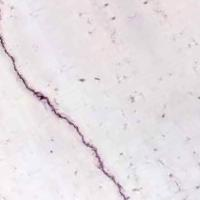crack: (0, 28, 130, 198)
